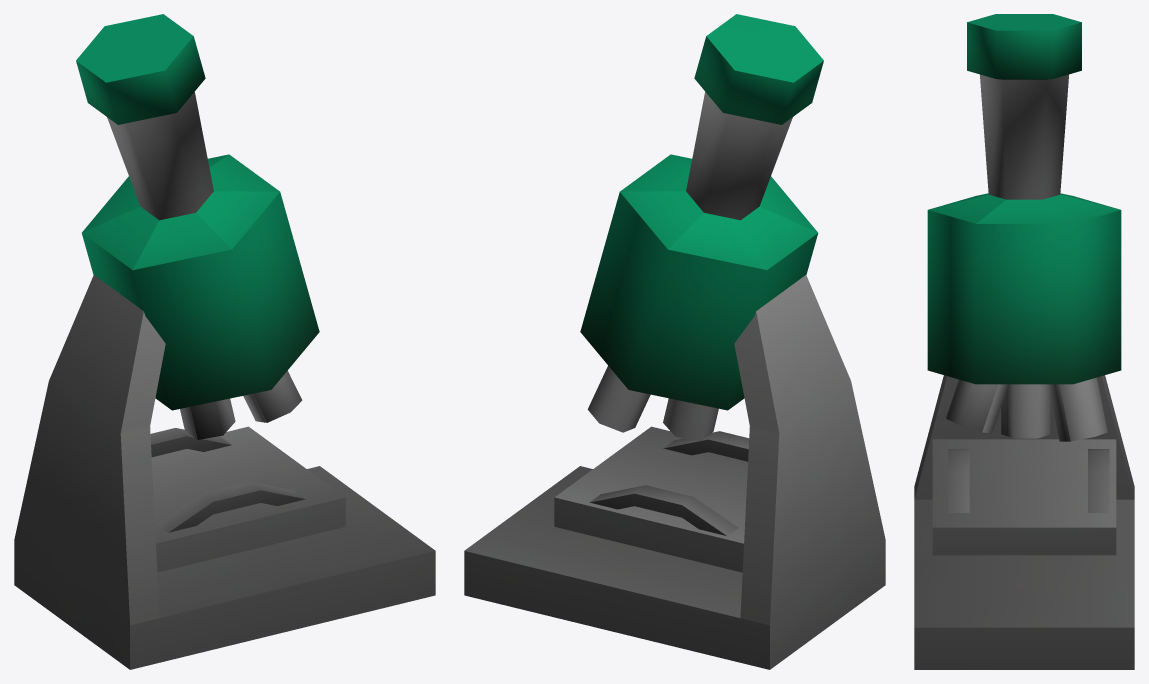
Rendered from Microscopio.fbx.
3 views of the same model, side by side, from view 1: azimuth 30°, elevation 25°; view 2: azimuth 150°, elevation 25°; view 3: azimuth 270°, elevation 25° (orthographic). The views are drawn at different scales.
Visible parts, largest first — view 1: microscopio; view 2: microscopio; view 3: microscopio.
Part boxes in pixels (x1=…): microscopio: x1=14, y1=14, x2=435, y2=669; microscopio: x1=464, y1=14, x2=885, y2=669; microscopio: x1=914, y1=14, x2=1134, y2=669.
Size of the model in its own units: 24.99 by 45.03 by 16.42.
